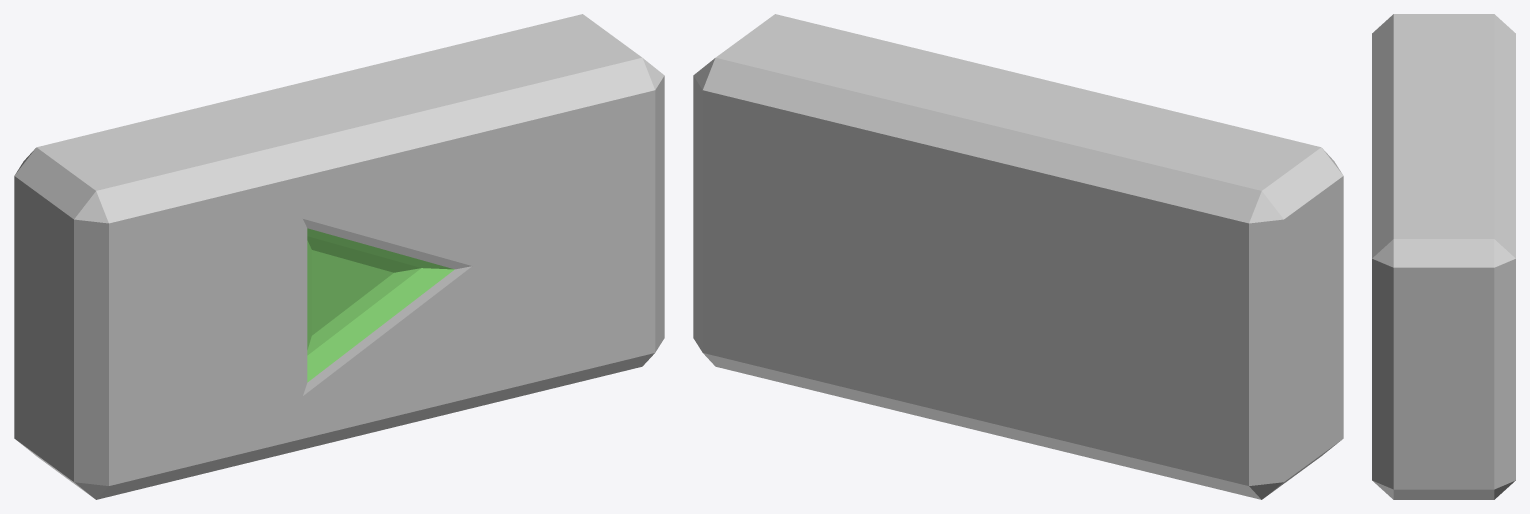
Rendered from play_button.fbx.
The picture shows the model from 3 angles, left to right: view 1: azimuth 30°, elevation 25°; view 2: azimuth 150°, elevation 25°; view 3: azimuth 270°, elevation 25°; orthographic projection. The views are drawn at different scales.
Visible parts, largest first — view 1: Cube; view 2: Cube; view 3: Cube.
Part boxes in pixels (bbox=[...]): Cube: bbox=[14, 14, 664, 499]; Cube: bbox=[693, 14, 1343, 499]; Cube: bbox=[1372, 14, 1515, 499].
Size of the model in its own units: 400 by 200 by 100.
